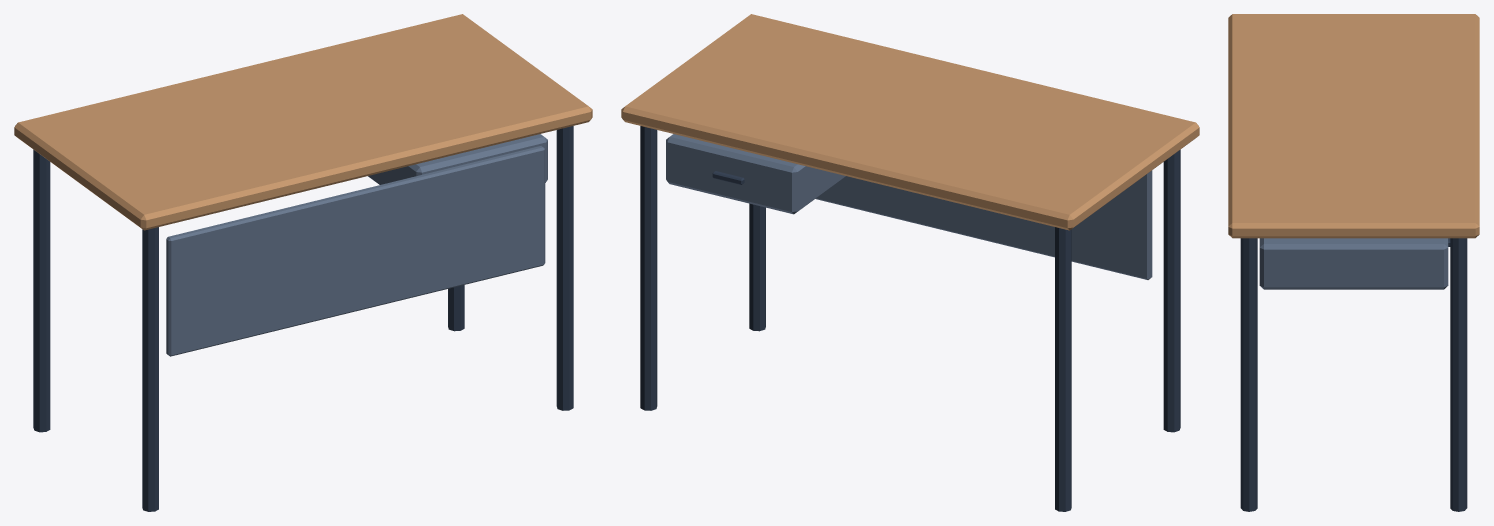
File: desk.glb
3 renders of one model, left to right at view 1: azimuth 30°, elevation 25°; view 2: azimuth 150°, elevation 25°; view 3: azimuth 270°, elevation 25°, orthographic. The views are drawn at different scales.
Parts seen in each view (by area): view 1: Desk; view 2: Desk; view 3: Desk.
Part boxes in pixels (x1,y1,x2,y2): Desk: (14, 14, 592, 511); Desk: (621, 14, 1199, 511); Desk: (1228, 14, 1479, 511).
Size of the model in its own units: 1.2 by 0.77 by 0.6.
